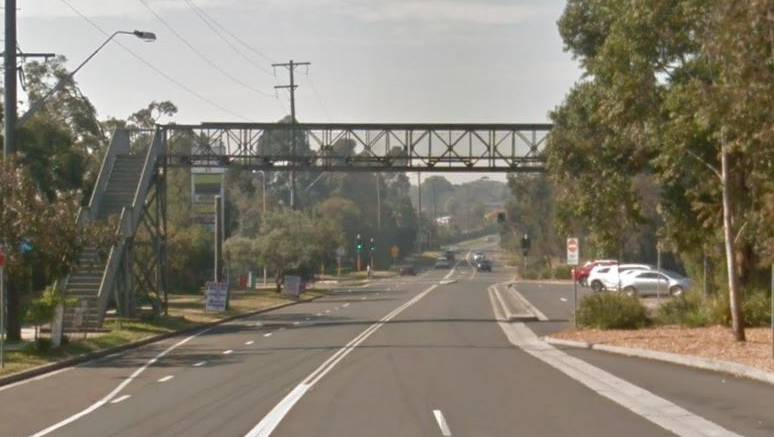bridge: (110, 119, 551, 178)
